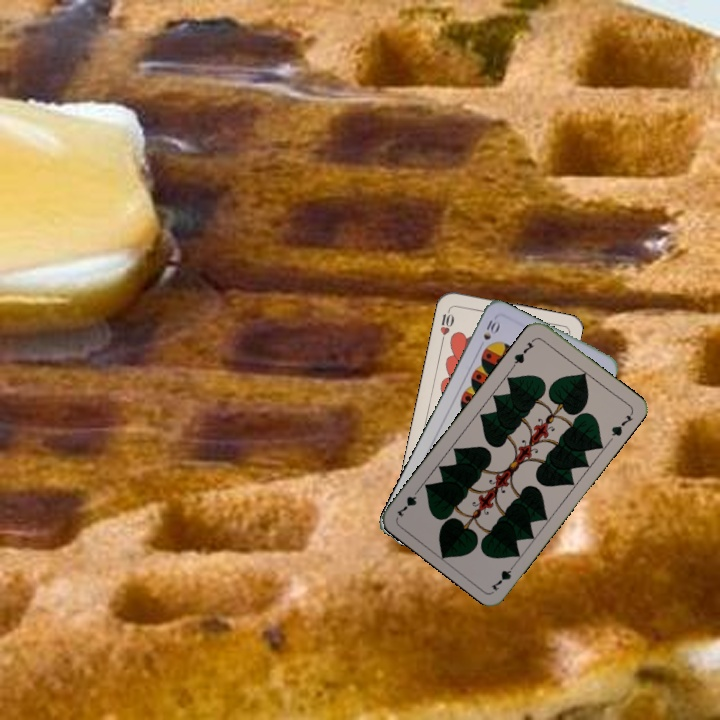G7: (486, 558, 519, 593), (509, 335, 538, 369)
H10: (436, 304, 457, 344)
S10: (479, 314, 502, 343)
